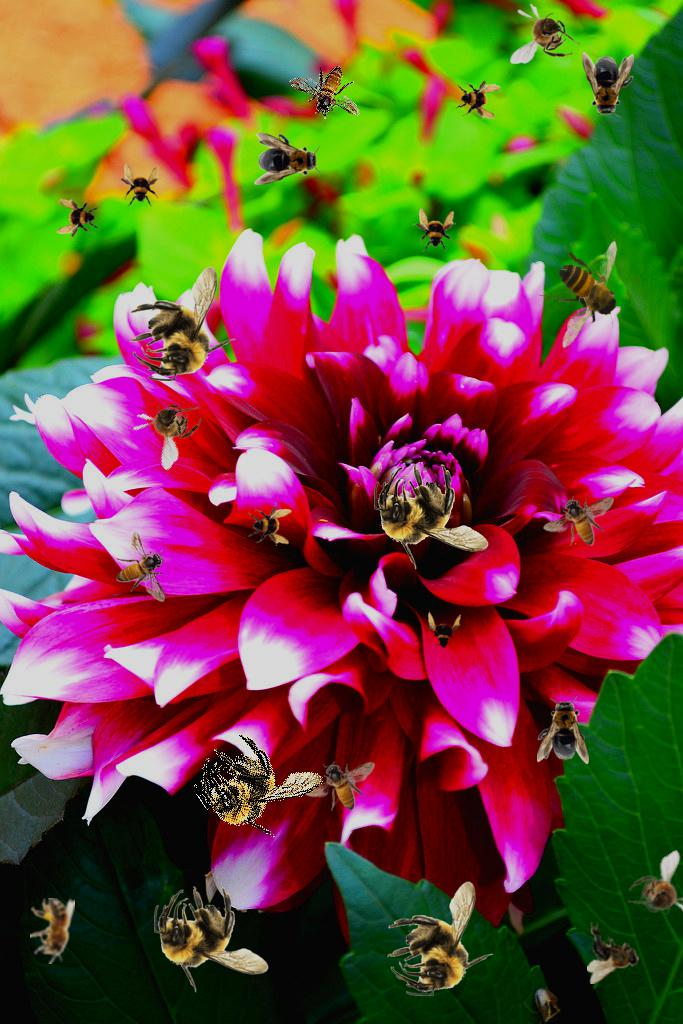Bee: (181, 708, 336, 861), (374, 463, 489, 570), (154, 886, 269, 993), (387, 881, 494, 996), (129, 266, 236, 381), (538, 239, 632, 350), (122, 378, 215, 472), (287, 49, 373, 136), (616, 848, 683, 938), (510, 3, 580, 64), (543, 496, 614, 546), (304, 761, 375, 811), (116, 531, 166, 602), (537, 696, 589, 764), (582, 52, 634, 120), (254, 133, 322, 185), (587, 922, 640, 984), (30, 898, 75, 964), (454, 74, 502, 122), (412, 208, 456, 252), (420, 610, 464, 654), (248, 502, 292, 546), (56, 197, 100, 241), (117, 163, 161, 207)
